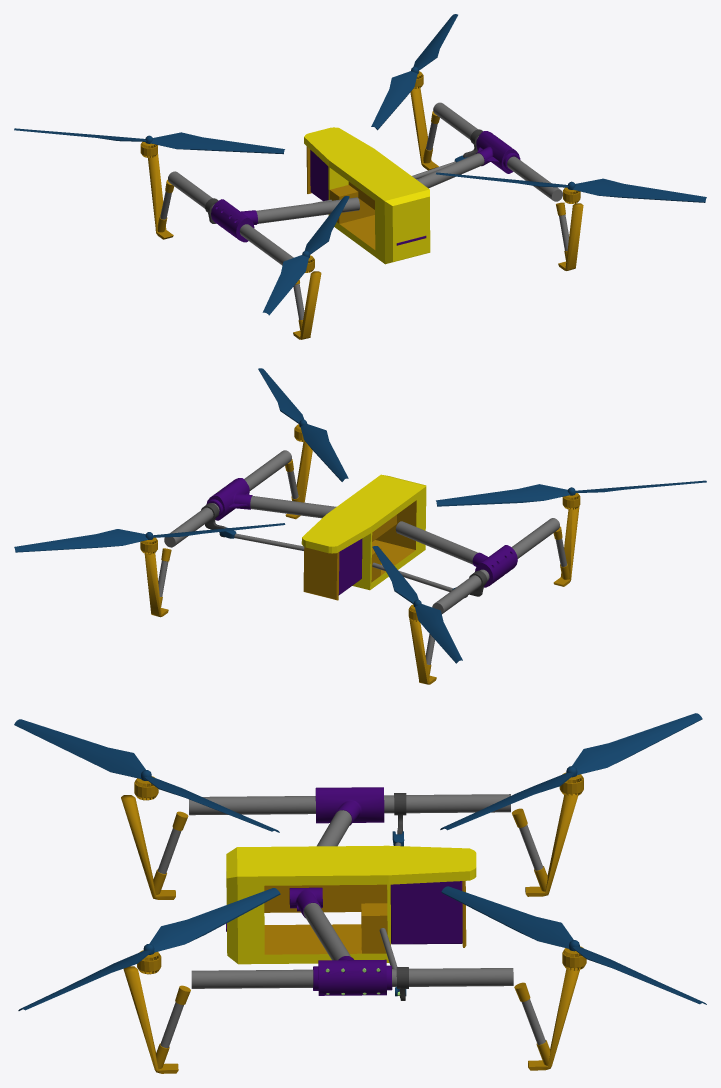
Rendered from dron.fbx.
The picture shows the model from 3 angles, top to bottom: view 1: azimuth 30°, elevation 25°; view 2: azimuth 150°, elevation 25°; view 3: azimuth 270°, elevation 25°; orthographic projection. The views are drawn at different scales.
Visible parts, largest first — view 1: dron; view 2: dron; view 3: dron.
Part boxes in pixels (box(x1,y1,x2,y2)): dron: box(14, 14, 706, 339); dron: box(14, 368, 706, 684); dron: box(14, 713, 706, 1073).
Bounding box in the file's own units: 680 × 140 × 664.
